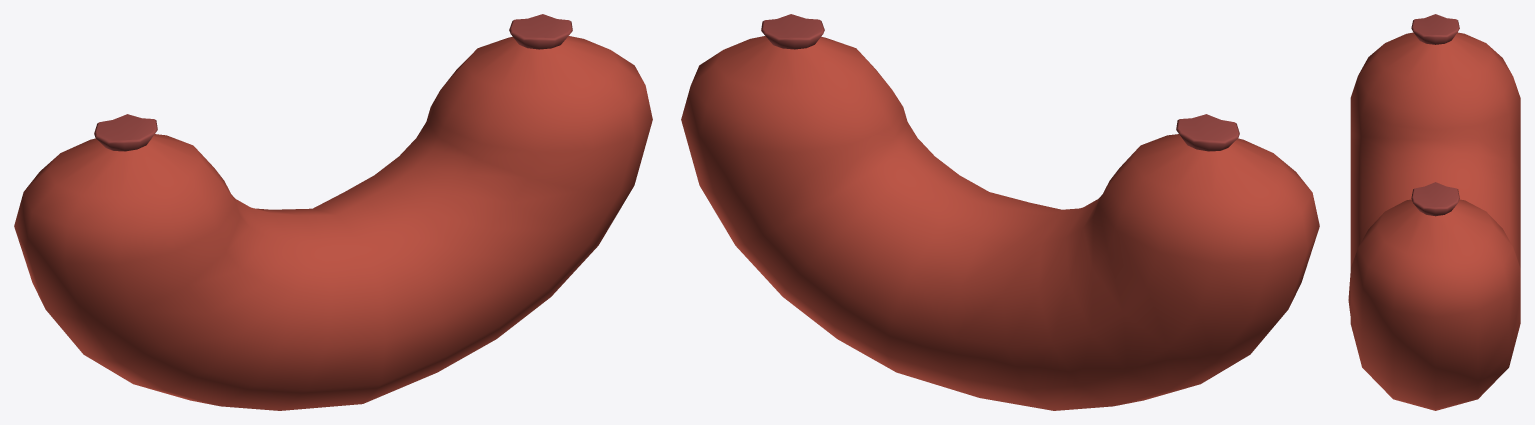
File: Sausage_mini.001.fbx
3 renders of one model, left to right at view 1: azimuth 30°, elevation 25°; view 2: azimuth 150°, elevation 25°; view 3: azimuth 270°, elevation 25°, orthographic. The views are drawn at different scales.
Parts seen in each view (by area): view 1: Sausage_mini.001; view 2: Sausage_mini.001; view 3: Sausage_mini.001.
Boxes of the visible parts, x1=… form: Sausage_mini.001: x1=14, y1=14, x2=652, y2=410; Sausage_mini.001: x1=681, y1=14, x2=1319, y2=410; Sausage_mini.001: x1=1348, y1=14, x2=1520, y2=410.
Size of the model in its own units: 123 by 35.62 by 61.27.
